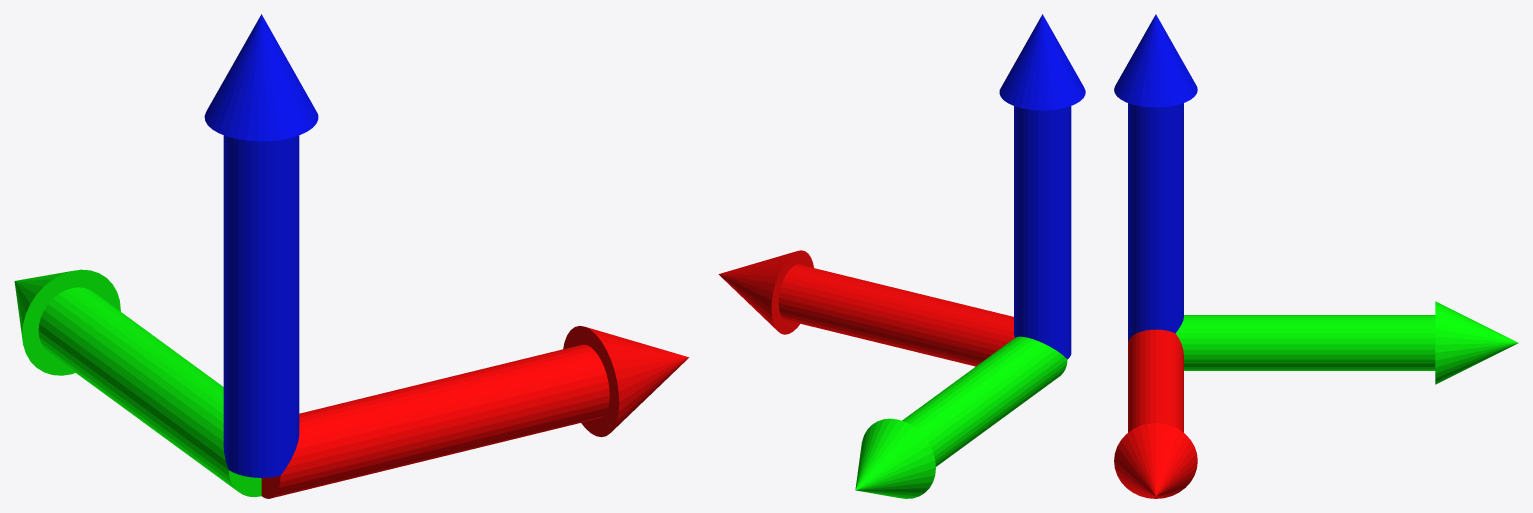
File: frame.dae
The picture shows the model from 3 angles, left to right: view 1: azimuth 30°, elevation 25°; view 2: azimuth 150°, elevation 25°; view 3: azimuth 270°, elevation 25°; orthographic projection. The views are drawn at different scales.
Visible parts, largest first — view 1: frame; view 2: frame; view 3: frame.
Part boxes in pixels (x1,y1,x2,y2): frame: [14, 14, 688, 498]; frame: [718, 14, 1085, 498]; frame: [1114, 14, 1518, 498].
Size of the model in its own units: 0.145 by 0.145 by 0.145.
